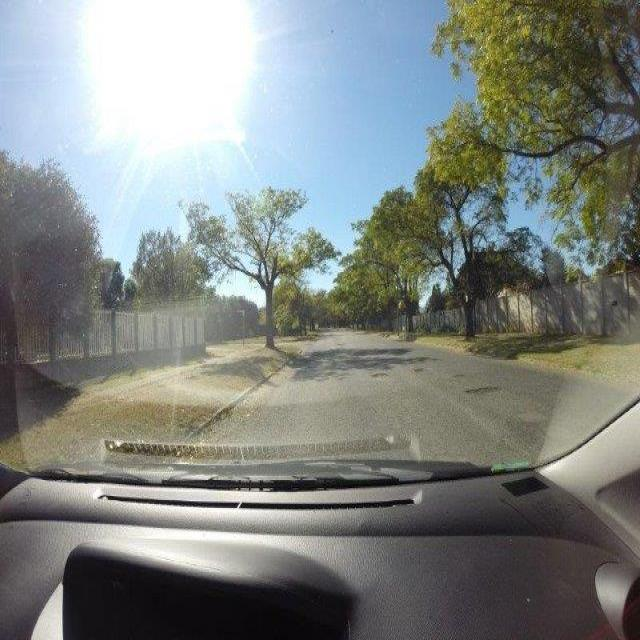lubang: (462, 381, 505, 399)
